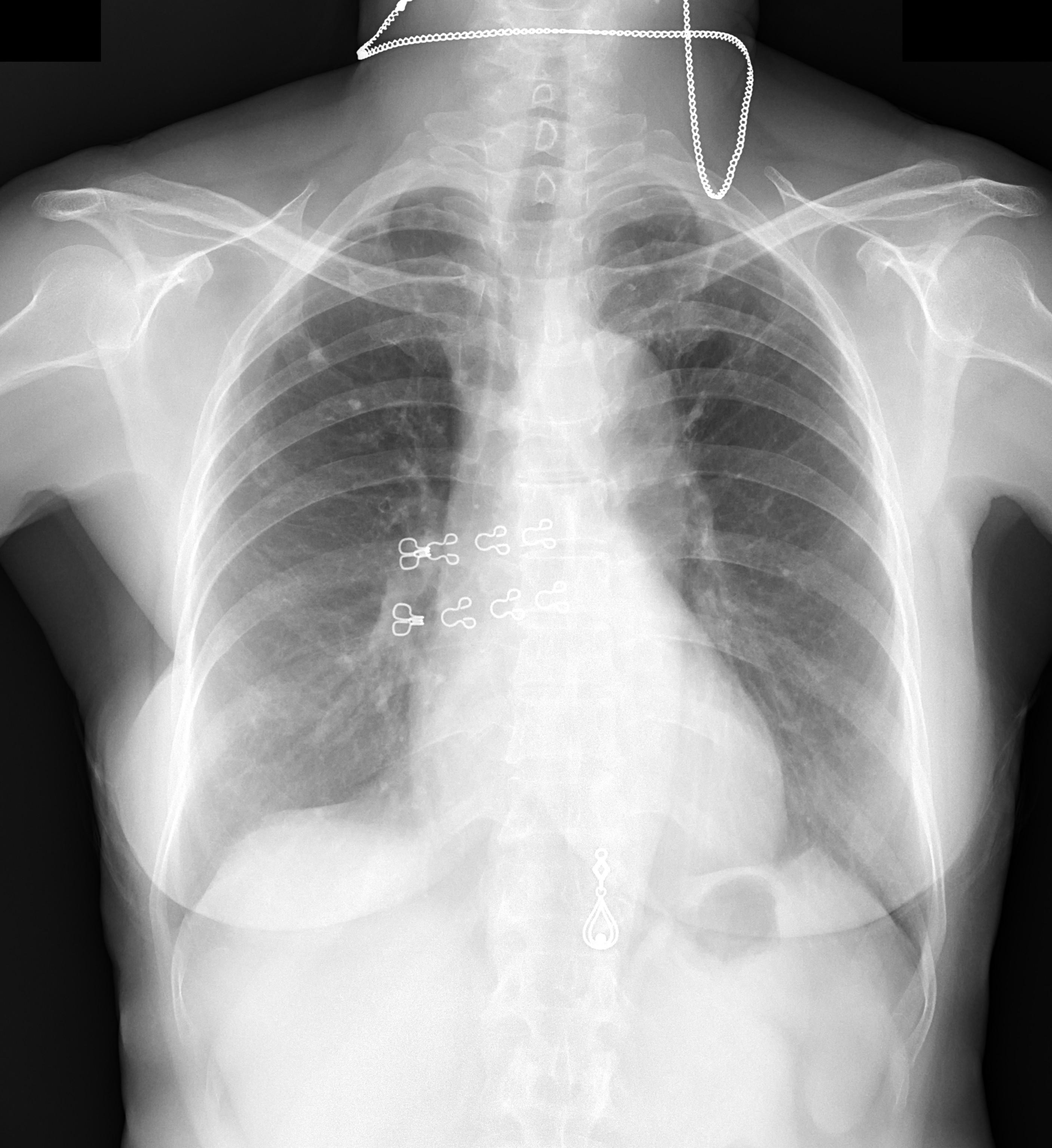Aortic enlargement: (537, 327, 681, 483)
Cardiomegaly: (404, 717, 791, 859)
Pleural thickening: (316, 184, 487, 258), (602, 188, 721, 241)
Pulmonary fibrosis: (280, 294, 330, 366), (698, 214, 730, 295)
